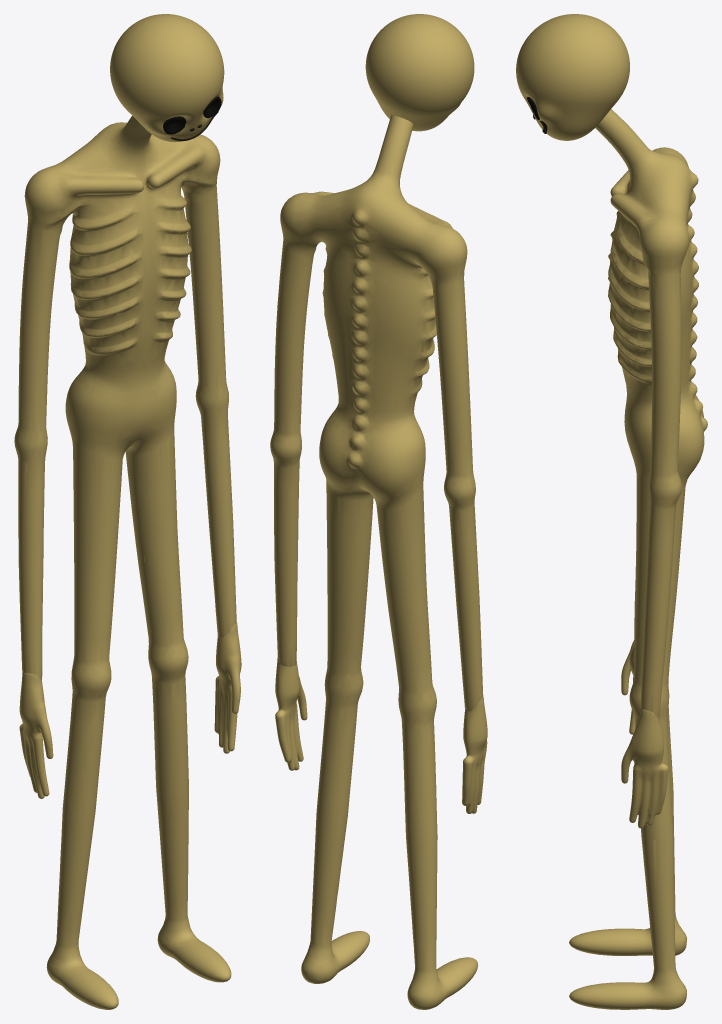
The model's file is verity_true_form_roblox.glb.
3 renders of one model, left to right at view 1: azimuth 30°, elevation 25°; view 2: azimuth 150°, elevation 25°; view 3: azimuth 270°, elevation 25°, orthographic. The views are drawn at different scales.
Parts seen in each view (by area): view 1: VerityTrueForm_Body, VerityTrueForm_Head, VerityTrueForm_Hands, VerityTrueForm_Eyes; view 2: VerityTrueForm_Body, VerityTrueForm_Head, VerityTrueForm_Hands; view 3: VerityTrueForm_Body, VerityTrueForm_Head, VerityTrueForm_Hands.
Boxes of the visible parts, x1,y1,x2,y2 form: VerityTrueForm_Body: [14, 115, 236, 1009]; VerityTrueForm_Head: [110, 14, 224, 142]; VerityTrueForm_Hands: [19, 622, 241, 798]; VerityTrueForm_Eyes: [163, 96, 221, 134]; VerityTrueForm_Body: [270, 115, 483, 1009]; VerityTrueForm_Head: [365, 14, 474, 131]; VerityTrueForm_Hands: [275, 657, 487, 813]; VerityTrueForm_Body: [569, 109, 707, 1009]; VerityTrueForm_Head: [516, 14, 629, 140]; VerityTrueForm_Hands: [621, 640, 668, 828].
Size of the model in its own units: 0.7912 by 3.42 by 0.6188.
3 materials, 3 textured.
